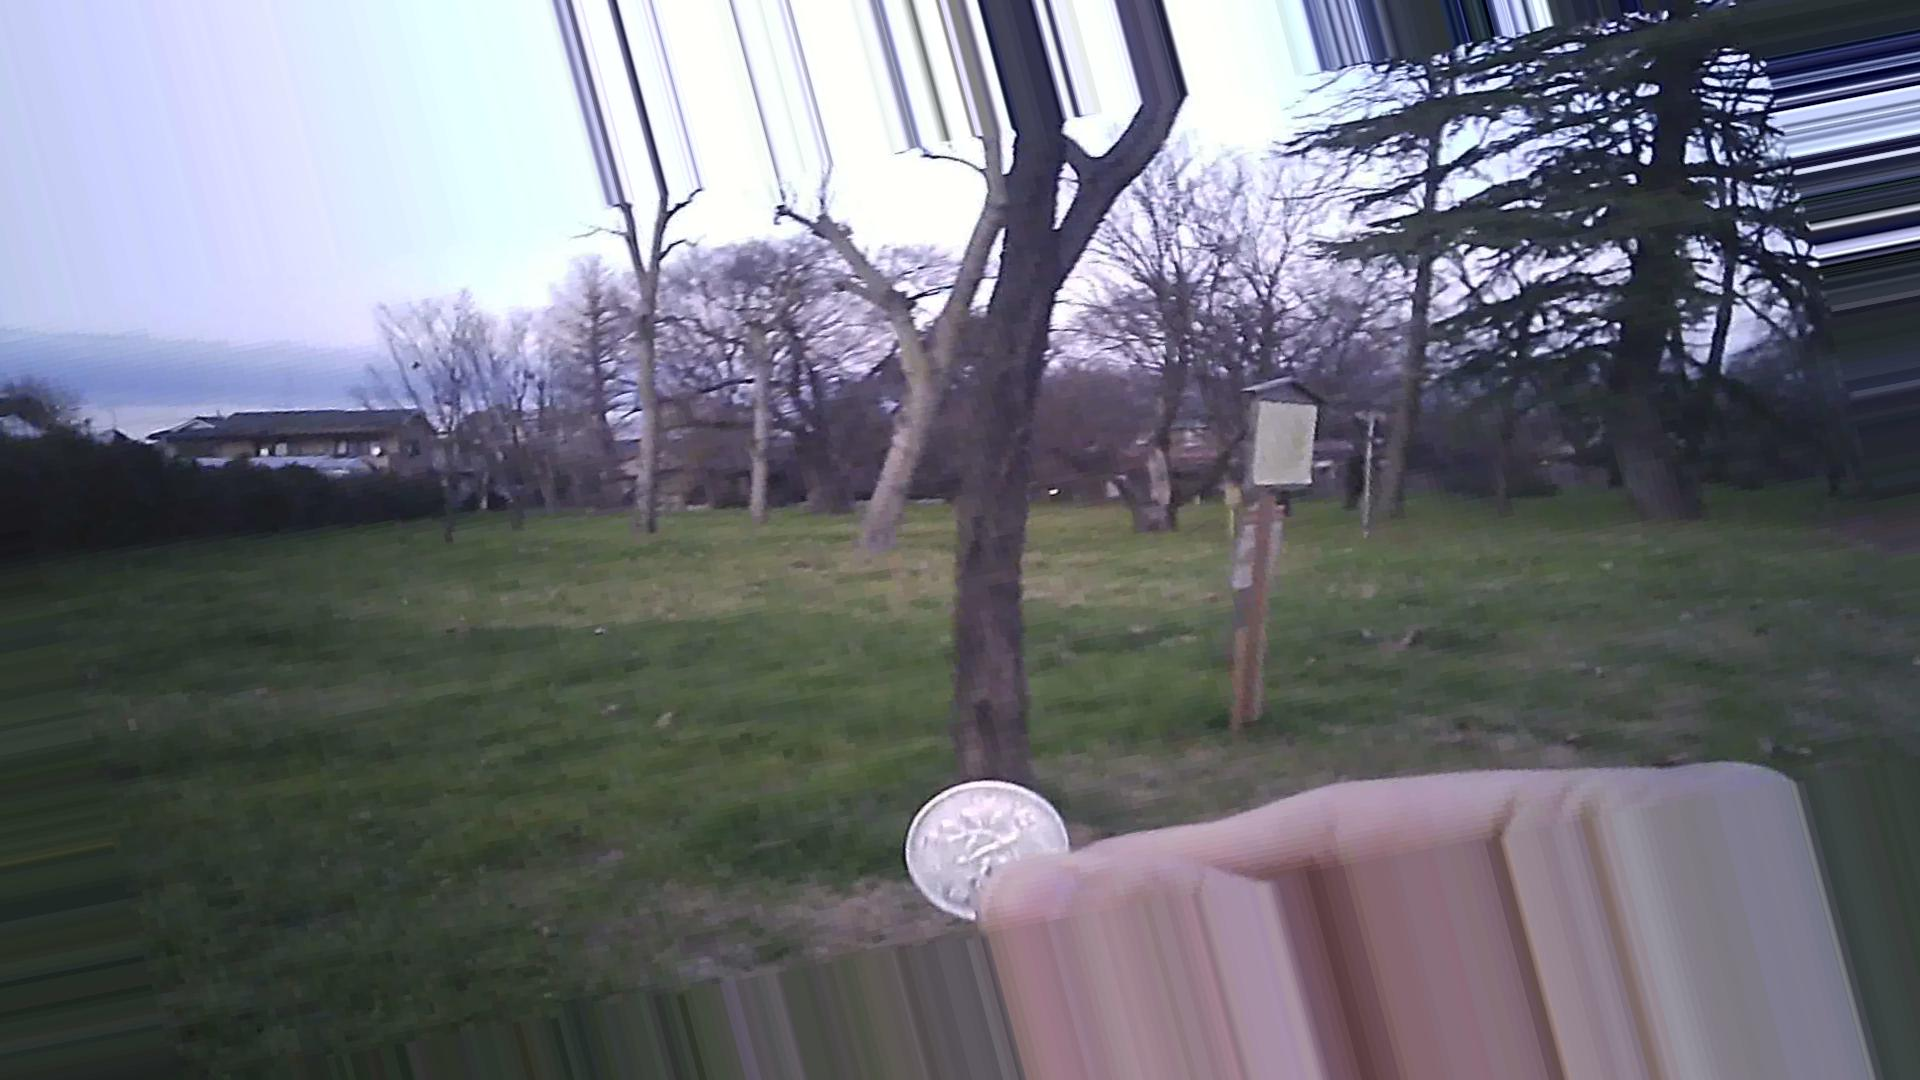1 Yen: (895, 787, 1083, 922)
